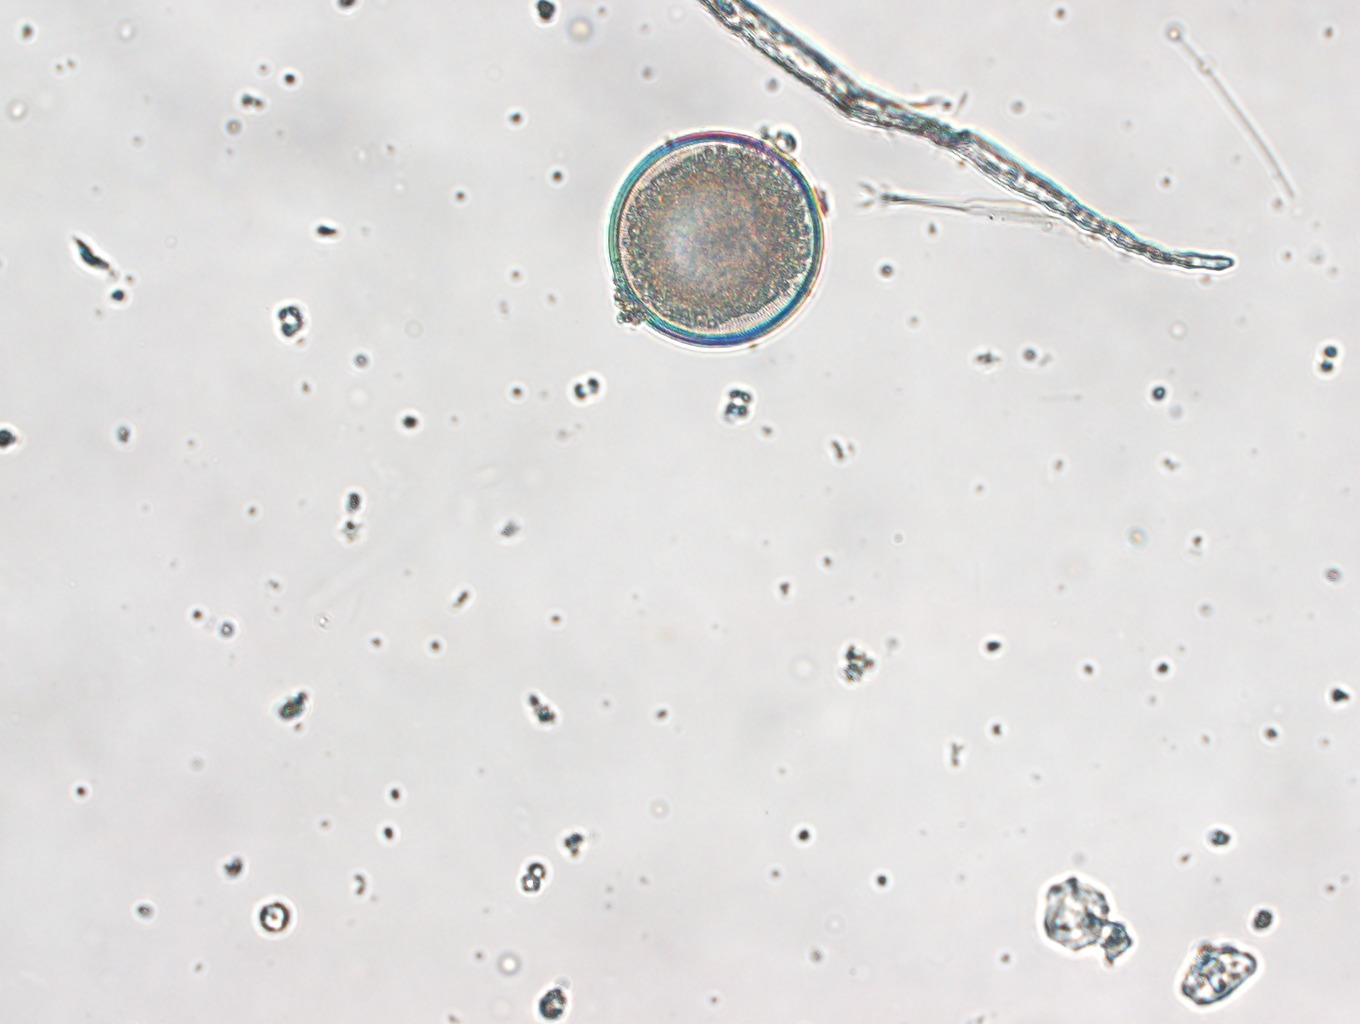coscinodiscus: (609, 130, 824, 349)
